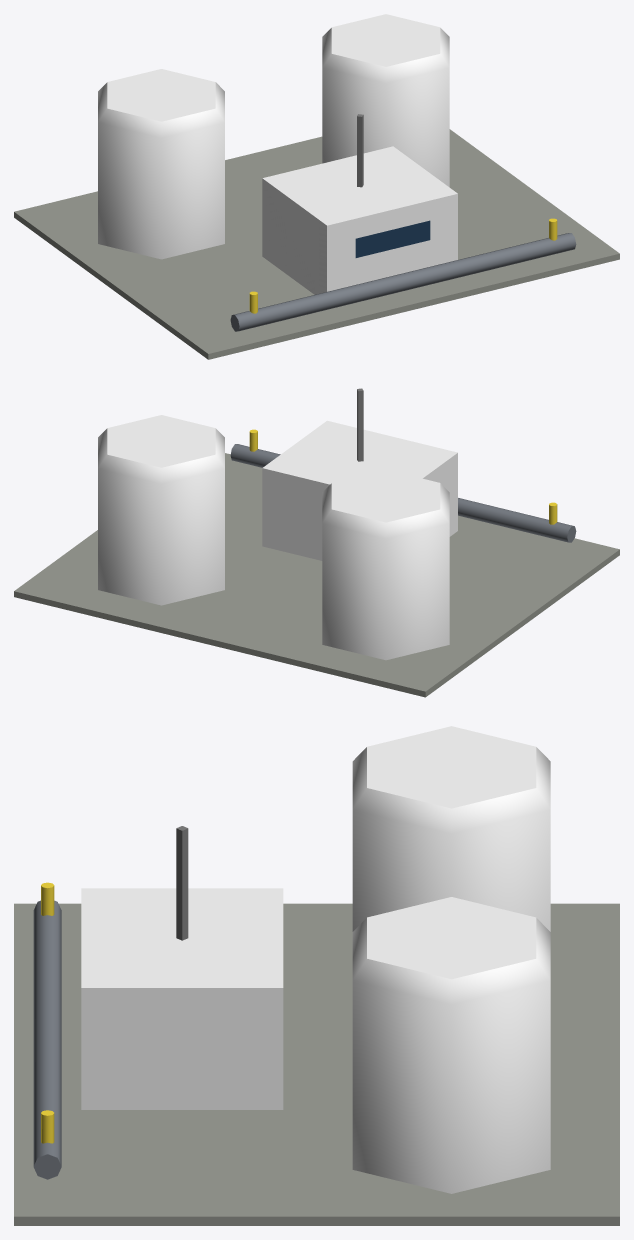
Rendered from roofprop.fbx.
3 views of the same model, one above another, from view 1: azimuth 30°, elevation 25°; view 2: azimuth 150°, elevation 25°; view 3: azimuth 270°, elevation 25° (orthographic). The views are drawn at different scales.
Visible parts, largest first — view 1: a1073/0/roofprop; view 2: a1073/0/roofprop; view 3: a1073/0/roofprop.
Part boxes in pixels (x1=…): a1073/0/roofprop: x1=14, y1=14, x2=619, y2=359; a1073/0/roofprop: x1=14, y1=388, x2=619, y2=697; a1073/0/roofprop: x1=14, y1=726, x2=619, y2=1225.
Size of the model in its own units: 22 by 7.9 by 18.
